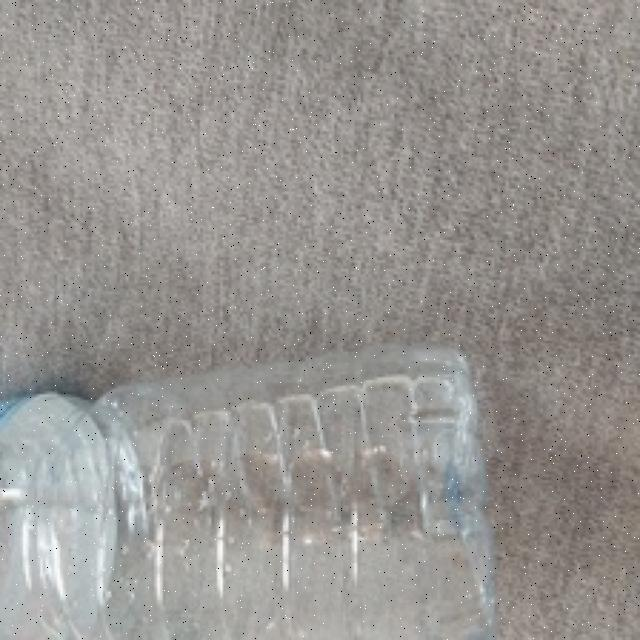bottle: (5, 349, 496, 640)
